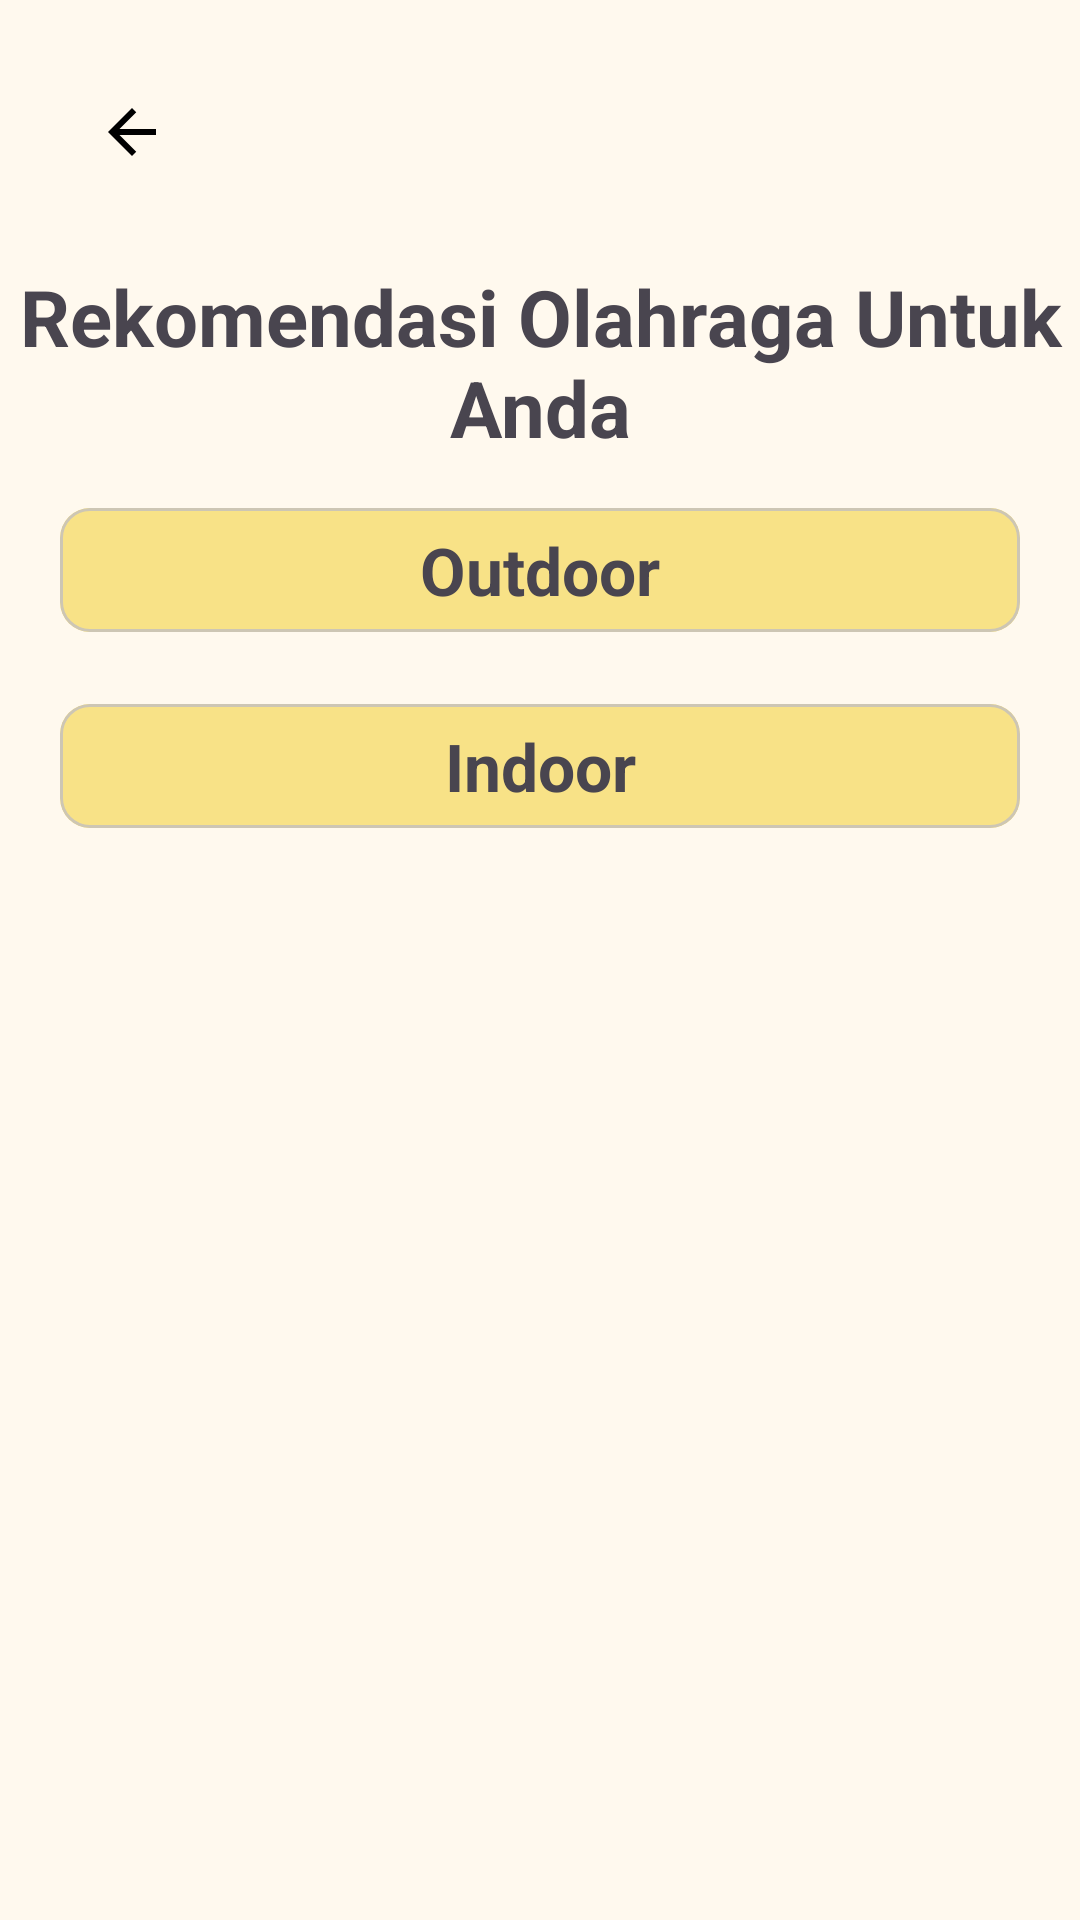

Where to tap for icons on this 1080x1920 app screen, as (x=x, y=y):
arrow back: (x=132, y=132)
